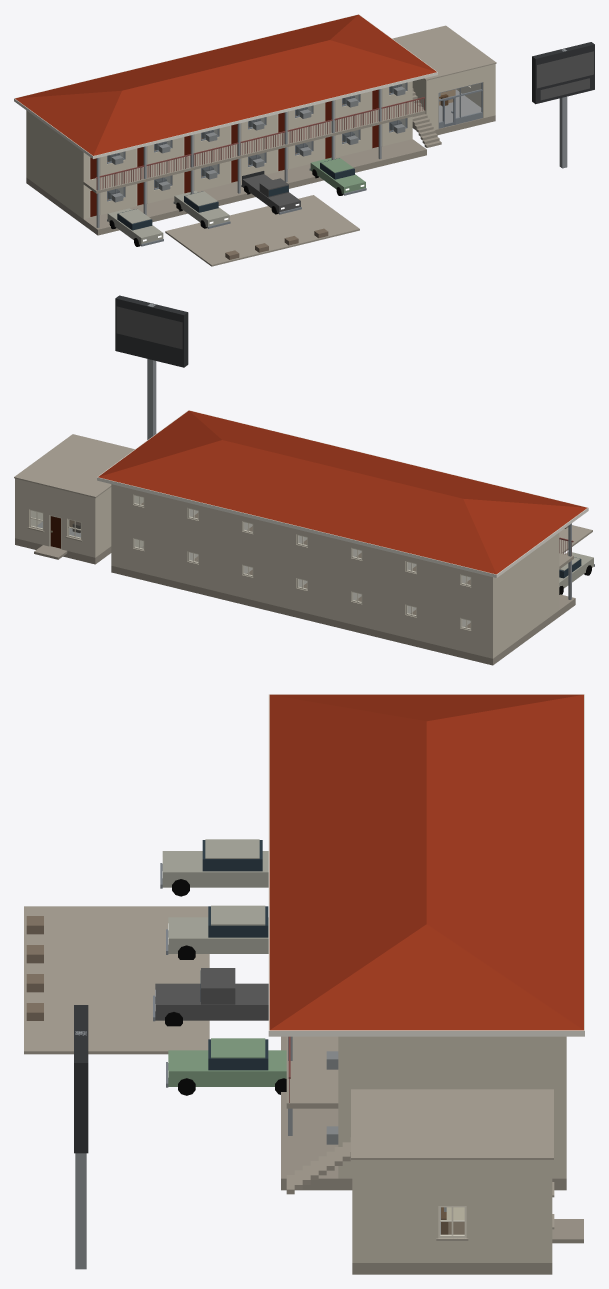
Rendered from motel.glb.
The picture shows the model from 3 angles, top to bottom: view 1: azimuth 30°, elevation 25°; view 2: azimuth 150°, elevation 25°; view 3: azimuth 270°, elevation 25°; orthographic projection. The views are drawn at different scales.
Visible parts, largest first — view 1: LOD0, FURN; view 2: LOD0; view 3: LOD0.
Part boxes in pixels (<box>): LOD0: <box>14,14,594,266</box>; FURN: <box>107,84,455,199</box>; LOD0: <box>14,295,594,665</box>; LOD0: <box>24,694,584,1274</box>.
Size of what is drawn, in the model's own units: 36.64 by 9.3 by 19.64.
